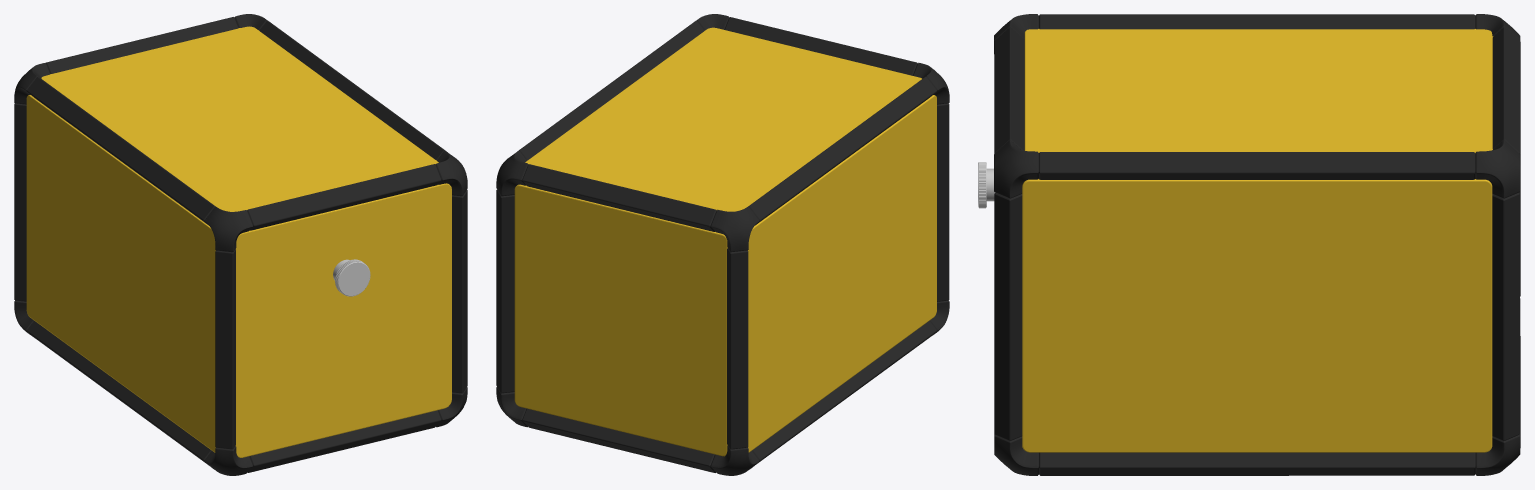
3 views of the same model, side by side, from view 1: azimuth 30°, elevation 25°; view 2: azimuth 150°, elevation 25°; view 3: azimuth 270°, elevation 25° (orthographic). The views are drawn at different scales.
Visible parts, largest first — view 1: 229x374x229; view 2: 229x374x229; view 3: 229x374x229.
Boxes of the visible parts, x1,y1,x2,y2 form: 229x374x229: (14,14,467,475); 229x374x229: (496,14,949,475); 229x374x229: (978,14,1520,475).
Bounding box in the file's own units: 0.3067 × 0.3067 × 0.4646.
